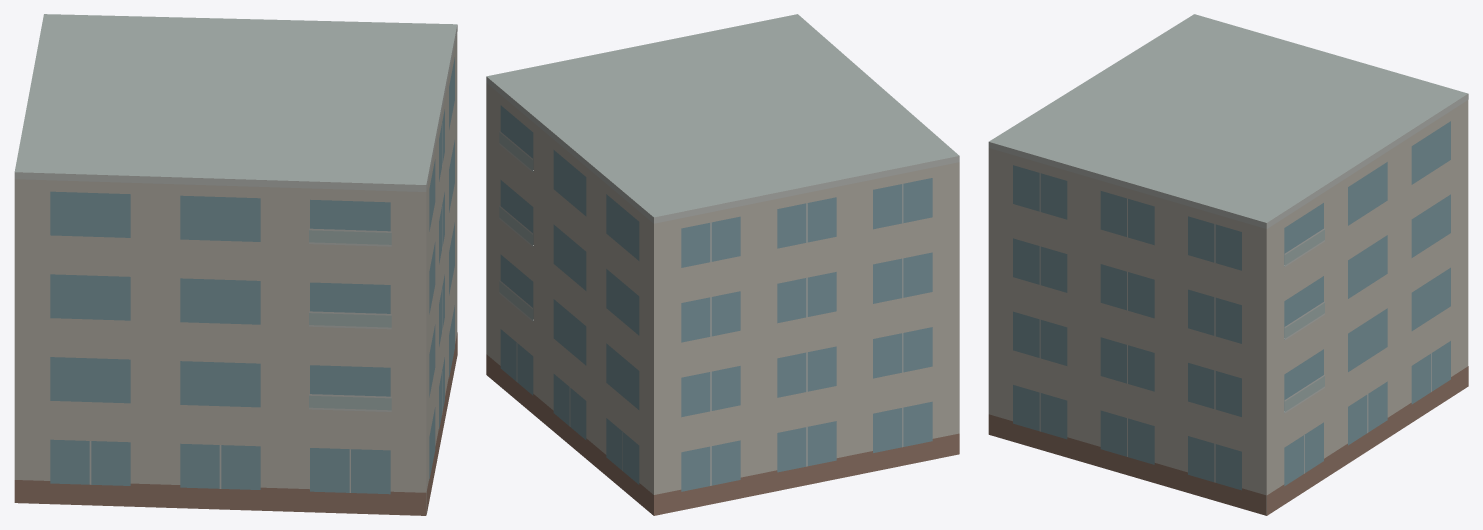
File: survey-upis-32737423.glb
3 views of the same model, side by side, from view 1: azimuth 30°, elevation 25°; view 2: azimuth 150°, elevation 25°; view 3: azimuth 270°, elevation 25° (orthographic). The views are drawn at different scales.
Parts seen in each view (by area): view 1: survey-upis-32737423.tmp; view 2: survey-upis-32737423.tmp; view 3: survey-upis-32737423.tmp.
Part boxes in pixels (bbox=[...]): survey-upis-32737423.tmp: bbox=[14, 14, 457, 515]; survey-upis-32737423.tmp: bbox=[486, 14, 959, 515]; survey-upis-32737423.tmp: bbox=[988, 14, 1468, 515].
Bounding box in the file's own units: 17.76 × 11.6 × 17.23.
